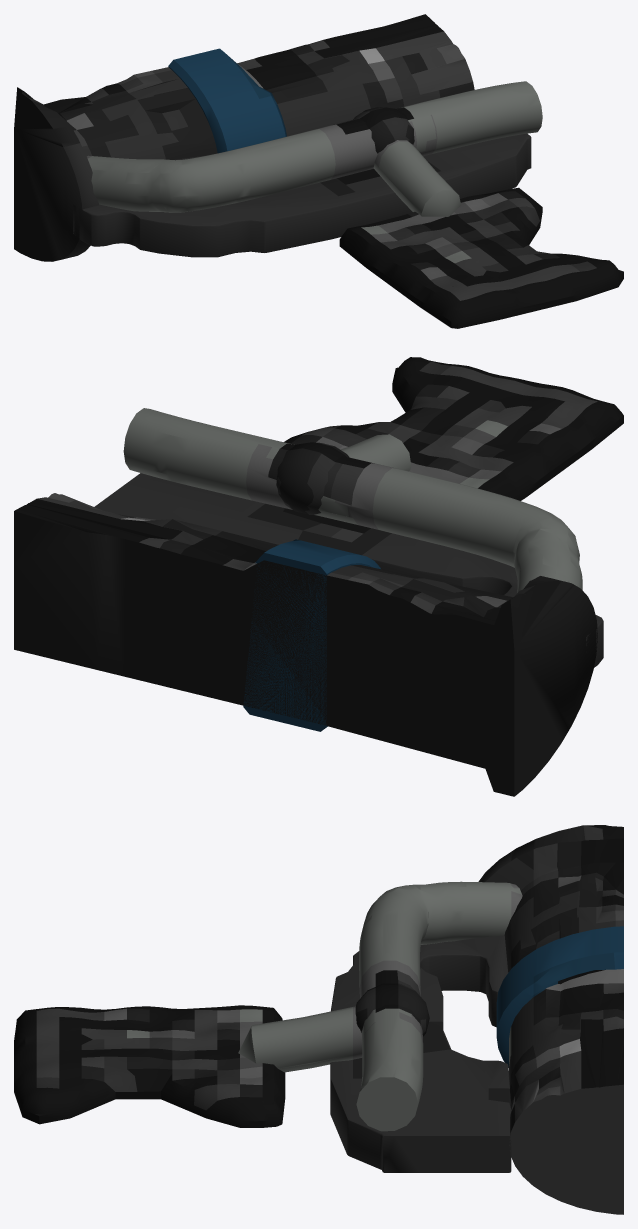
File: station_l_bl_damaged.glb
3 views of the same model, one above another, from view 1: azimuth 30°, elevation 25°; view 2: azimuth 150°, elevation 25°; view 3: azimuth 270°, elevation 25° (orthographic). The views are drawn at different scales.
Parts seen in each view (by area): view 1: station_l_bl_damaged_axle, station_l_bl_damaged_shard_low, station_l_bl_damaged_strut_low, station_l_bl_damaged_web0_low, station_l_bl_damaged_blue_band, station_l_bl_damaged_stem_low, station_l_bl_damaged_knuckle_low; view 2: station_l_bl_damaged_axle, station_l_bl_damaged_strut_low, station_l_bl_damaged_shard_low, station_l_bl_damaged_web0_low, station_l_bl_damaged_blue_band, station_l_bl_damaged_knuckle_low, station_l_bl_damaged_stem_low; view 3: station_l_bl_damaged_axle, station_l_bl_damaged_shard_low, station_l_bl_damaged_web0_low, station_l_bl_damaged_strut_low, station_l_bl_damaged_blue_band, station_l_bl_damaged_stem_low, station_l_bl_damaged_knuckle_low.
Part boxes in pixels (x1=…): station_l_bl_damaged_axle: x1=14, y1=14, x2=474, y2=261; station_l_bl_damaged_shard_low: x1=339, y1=187, x2=623, y2=328; station_l_bl_damaged_strut_low: x1=87, y1=81, x2=542, y2=212; station_l_bl_damaged_web0_low: x1=73, y1=133, x2=531, y2=257; station_l_bl_damaged_blue_band: x1=168, y1=48, x2=286, y2=153; station_l_bl_damaged_stem_low: x1=373, y1=140, x2=460, y2=216; station_l_bl_damaged_knuckle_low: x1=353, y1=107, x2=414, y2=153; station_l_bl_damaged_axle: x1=14, y1=493, x2=597, y2=796; station_l_bl_damaged_strut_low: x1=123, y1=408, x2=582, y2=592; station_l_bl_damaged_shard_low: x1=284, y1=357, x2=623, y2=500; station_l_bl_damaged_web0_low: x1=94, y1=473, x2=603, y2=667; station_l_bl_damaged_blue_band: x1=243, y1=539, x2=380, y2=731; station_l_bl_damaged_knuckle_low: x1=276, y1=442, x2=349, y2=515; station_l_bl_damaged_stem_low: x1=340, y1=434, x2=411, y2=471; station_l_bl_damaged_axle: x1=478, y1=825, x2=623, y2=1214; station_l_bl_damaged_shard_low: x1=14, y1=1005, x2=285, y2=1127; station_l_bl_damaged_web0_low: x1=330, y1=935, x2=511, y2=1172; station_l_bl_damaged_strut_low: x1=356, y1=881, x2=522, y2=1131; station_l_bl_damaged_blue_band: x1=496, y1=926, x2=623, y2=1067; station_l_bl_damaged_stem_low: x1=238, y1=1006, x2=362, y2=1072; station_l_bl_damaged_knuckle_low: x1=355, y1=983, x2=429, y2=1036.
Size of the model in its own units: 23.98 by 9.01 by 26.99.
